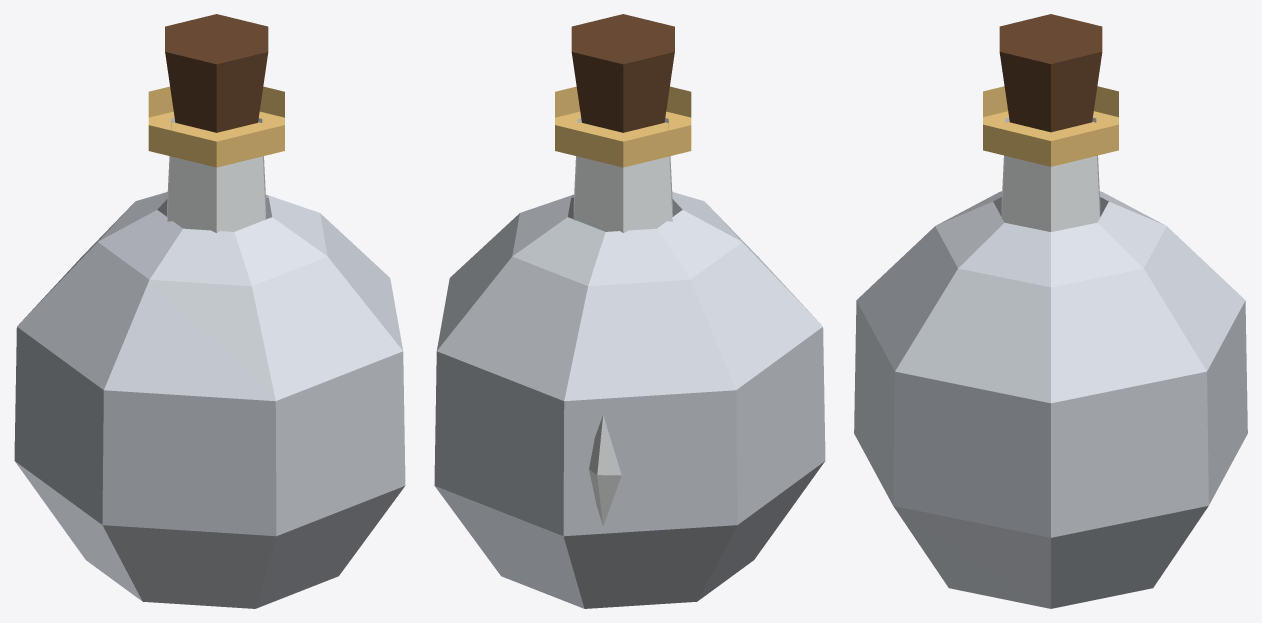
The model's file is Potion.obj.
3 views of the same model, side by side, from view 1: azimuth 30°, elevation 25°; view 2: azimuth 150°, elevation 25°; view 3: azimuth 270°, elevation 25° (orthographic).
Bounding box in the file's own units: 1.62 × 2.47 × 1.66.
